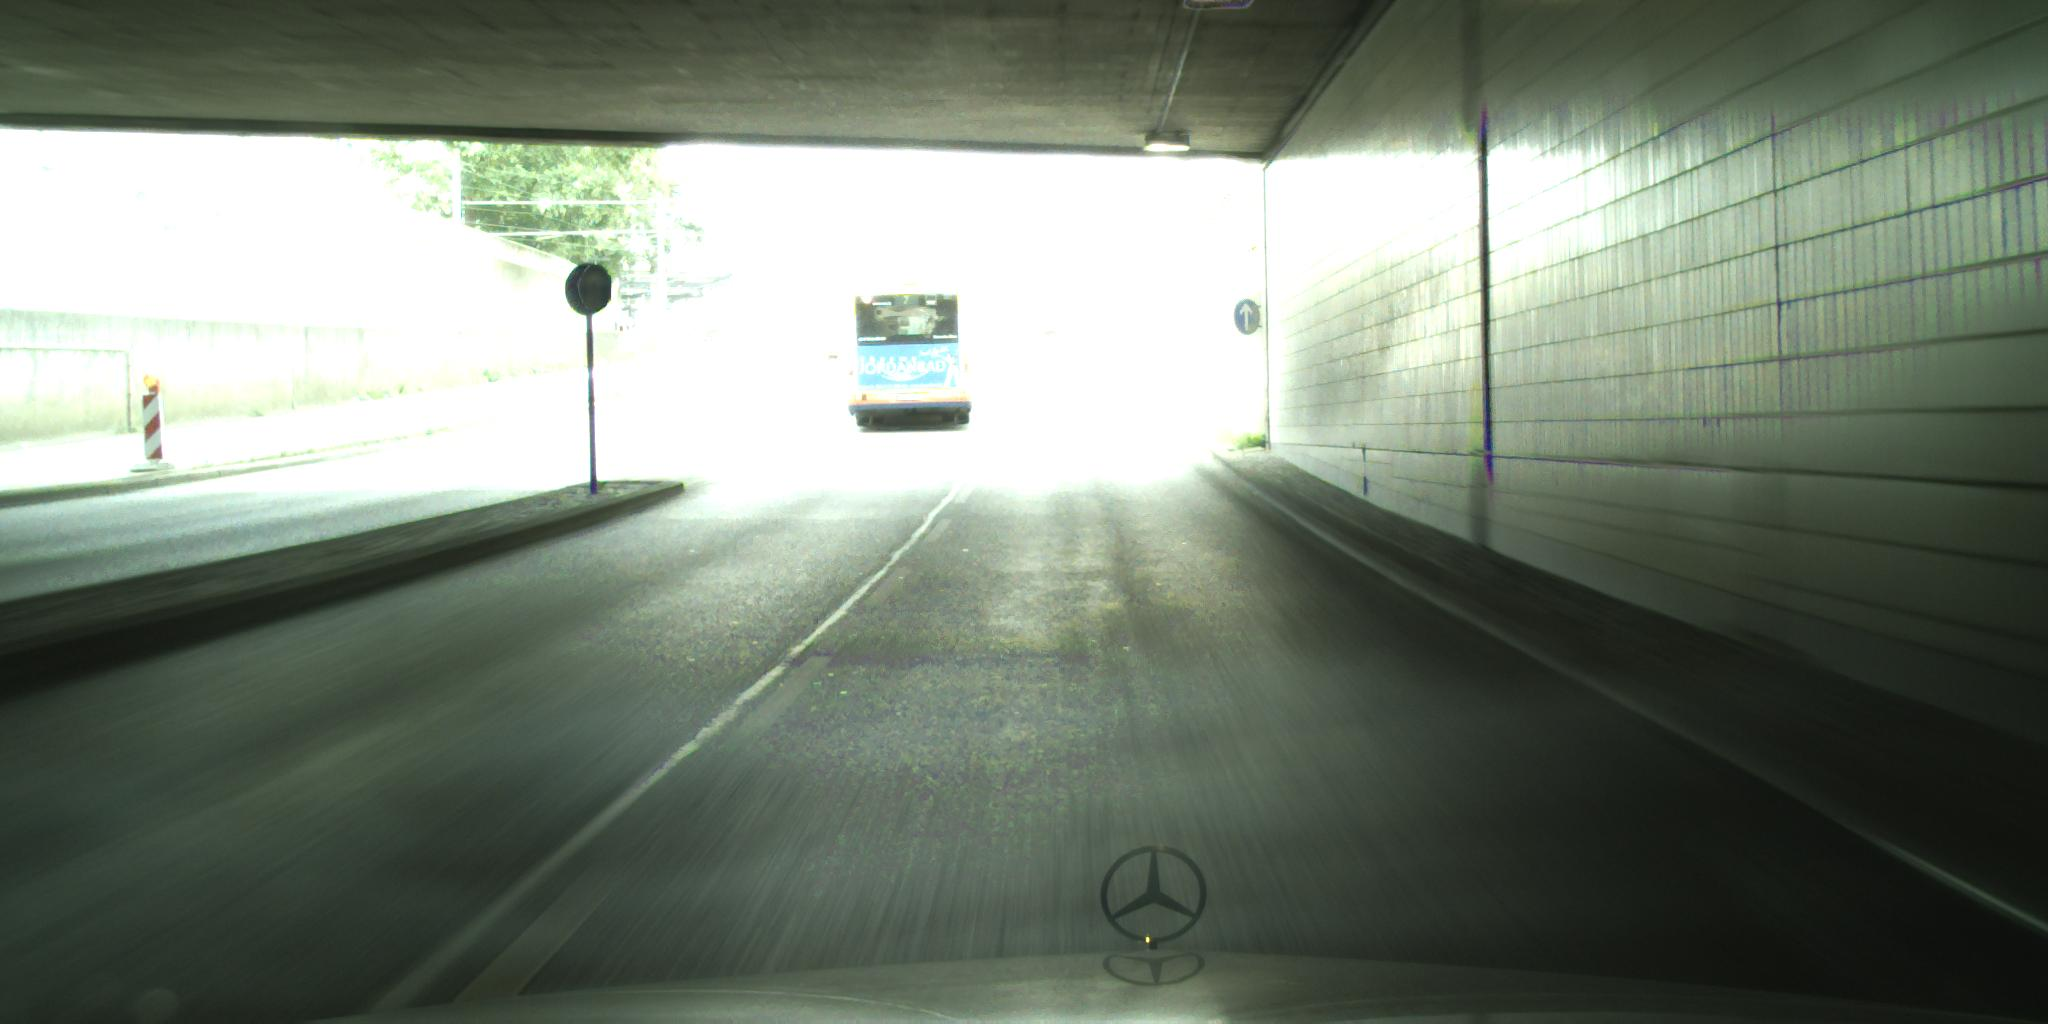bus: (846, 280, 974, 428)
car: (828, 337, 856, 363)
